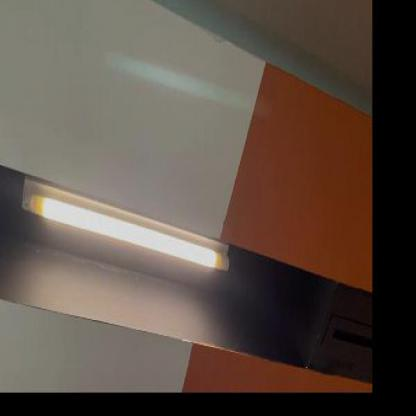light_on: (17, 154, 239, 286)
